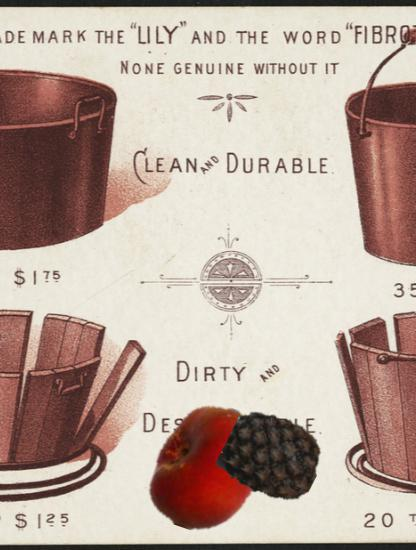Nectarine: (145, 404, 274, 533)
Pineapple: (225, 409, 321, 505)
